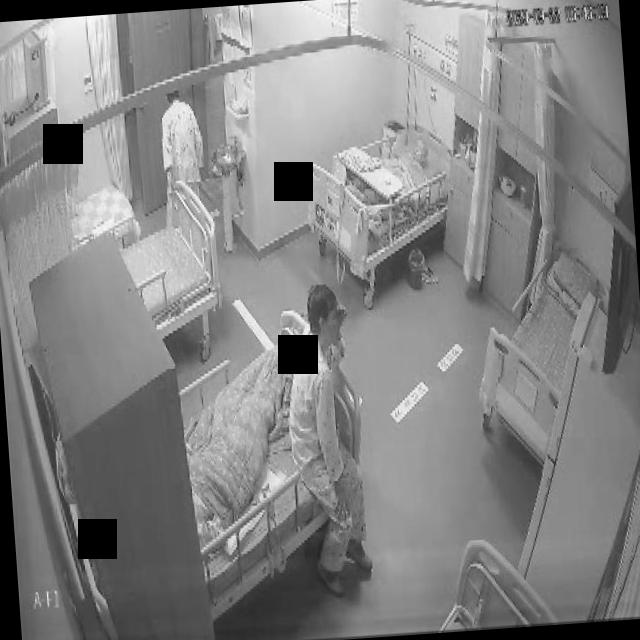bed: (175, 312, 368, 590), (470, 241, 600, 469), (306, 122, 456, 279), (119, 175, 225, 336)
patient: (281, 282, 368, 594), (156, 80, 216, 192)
sit: (281, 282, 374, 596)
stand: (156, 82, 208, 194)
